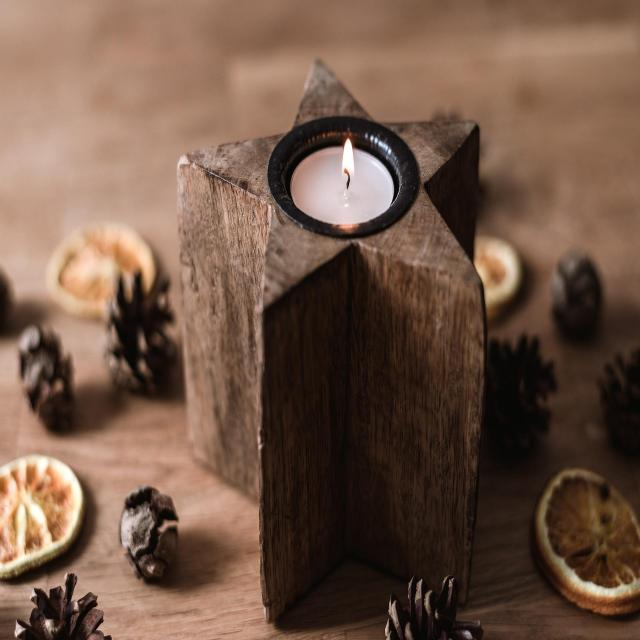Fire_Save: (289, 135, 395, 227)
